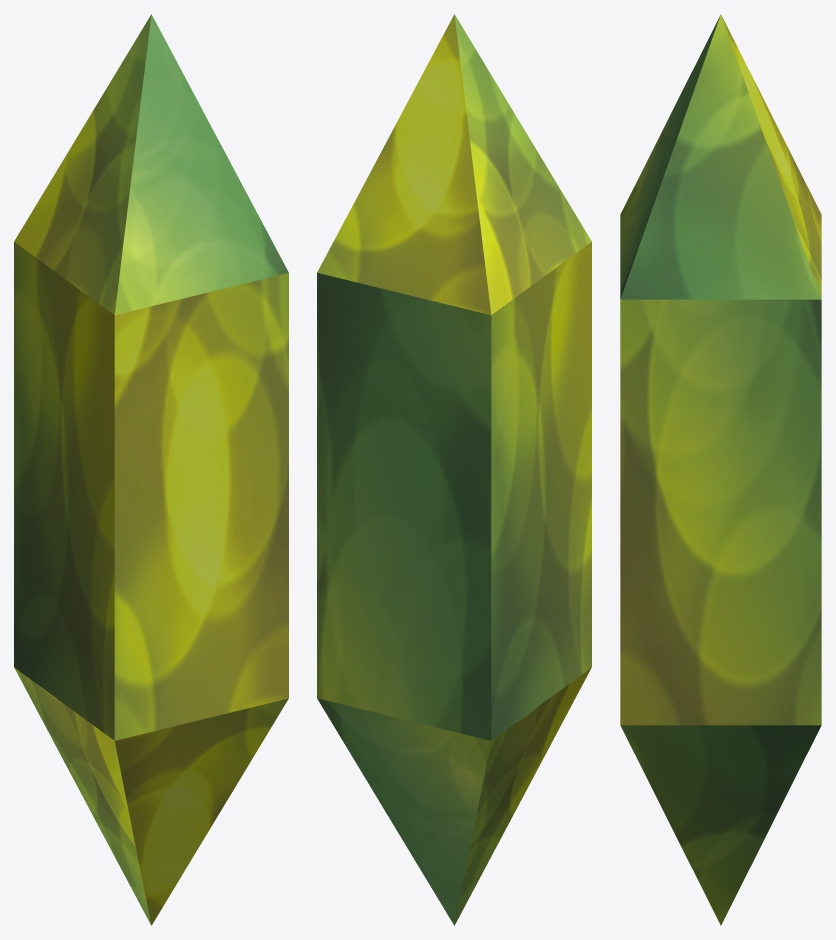
File: energy_stone_common.obj
3 renders of one model, left to right at view 1: azimuth 30°, elevation 25°; view 2: azimuth 150°, elevation 25°; view 3: azimuth 270°, elevation 25°, orthographic.
Visible parts, largest first — view 1: Cube, Pyramid; view 2: Cube, Pyramid; view 3: Cube, Pyramid.
Boxes of the visible parts, left/top/right/bottom form: Cube: left=14, top=242, right=288, bottom=740; Pyramid: left=14, top=14, right=288, bottom=925; Cube: left=317, top=242, right=591, bottom=740; Pyramid: left=317, top=14, right=591, bottom=925; Cube: left=620, top=299, right=821, bottom=725; Pyramid: left=620, top=14, right=821, bottom=925.
Size of the model in its own units: 3 by 15 by 3.
